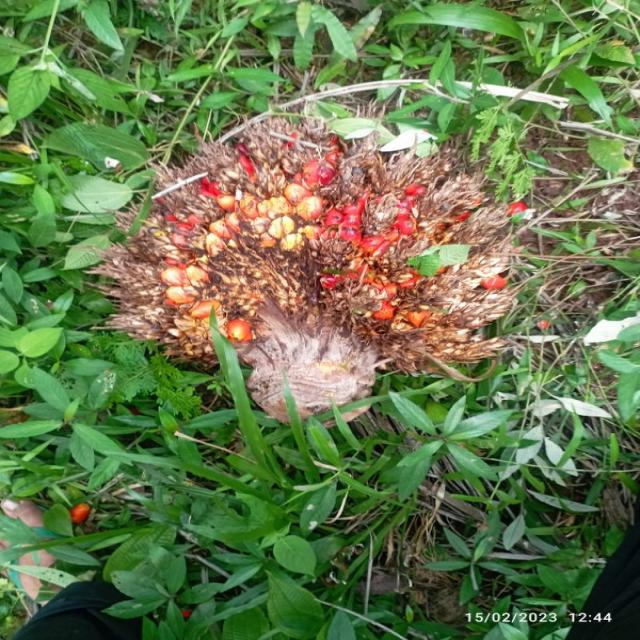fraksi 4: (35, 41, 558, 430)
